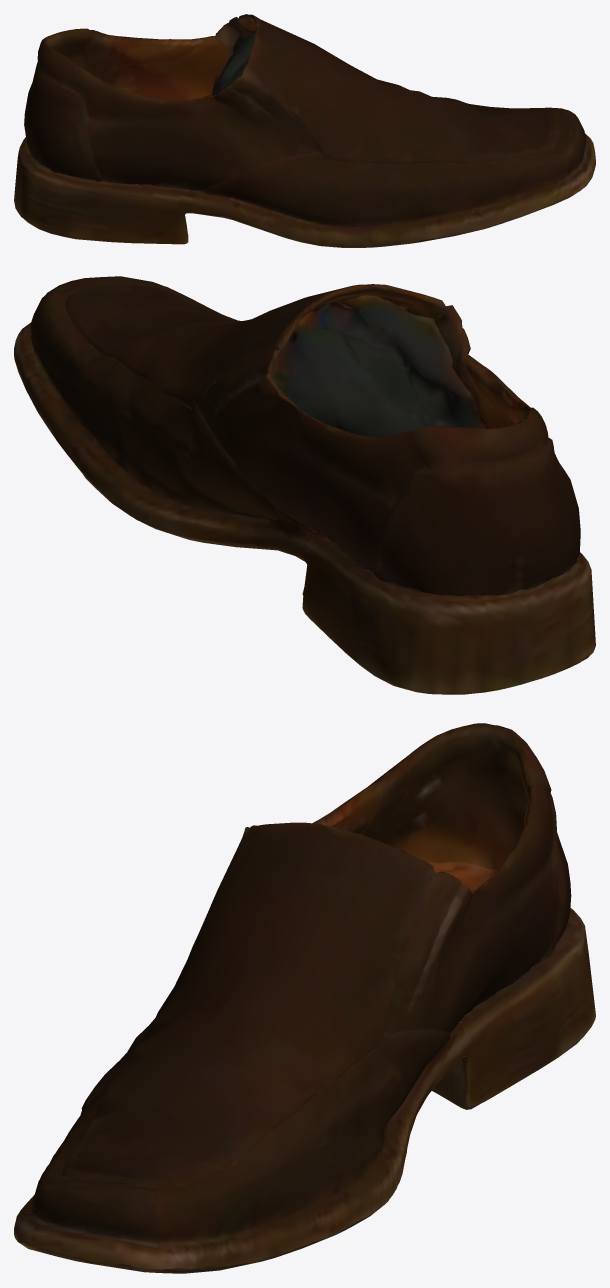
File: ropa_old_oxford_shoe.glb
3 renders of one model, top to bottom at view 1: azimuth 30°, elevation 25°; view 2: azimuth 150°, elevation 25°; view 3: azimuth 270°, elevation 25°, orthographic. The views are drawn at different scales.
Visible parts, largest first — view 1: Object_2; view 2: Object_2; view 3: Object_2.
Boxes of the visible parts, x1,y1,x2,y2 form: Object_2: (14,14,595,247); Object_2: (14,276,595,694); Object_2: (14,723,595,1273).
Size of the model in its own units: 0.2801 by 0.105 by 0.1873.
1 material, 1 textured.
